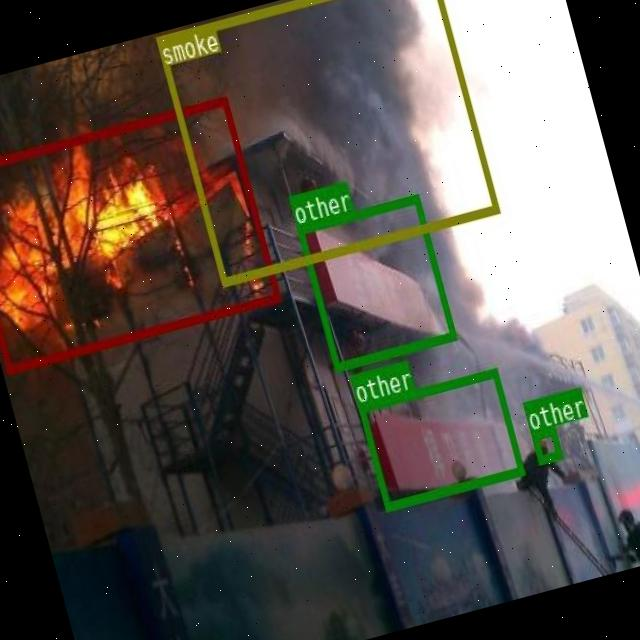fire: (0, 96, 279, 372)
smoke: (154, 0, 498, 285)
